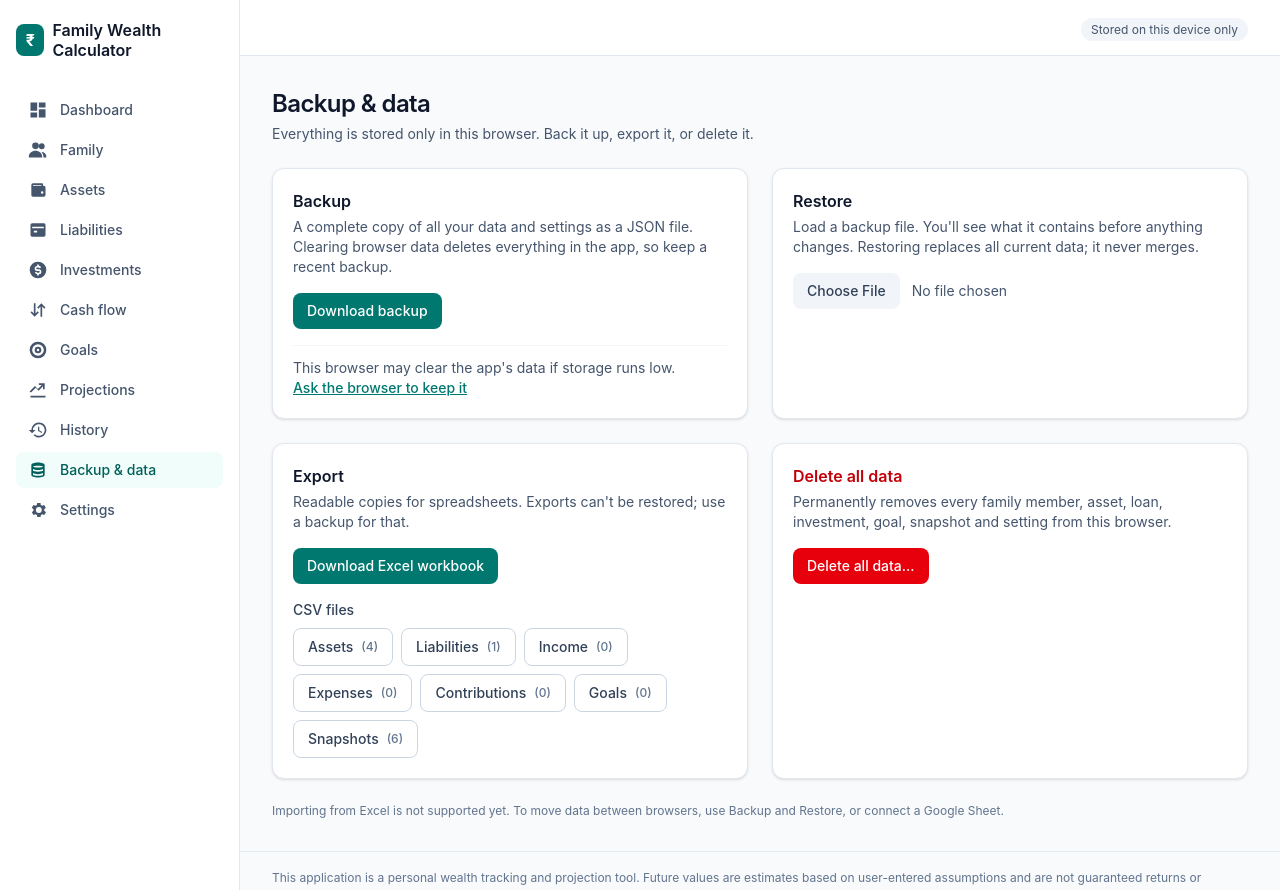
Test: Backup & data page (Phase 13) › deletes all data only after typing DELETE
The image size is (1280, 890).
Click the button "Delete all data…" at [861, 566], box [793, 548, 928, 584]
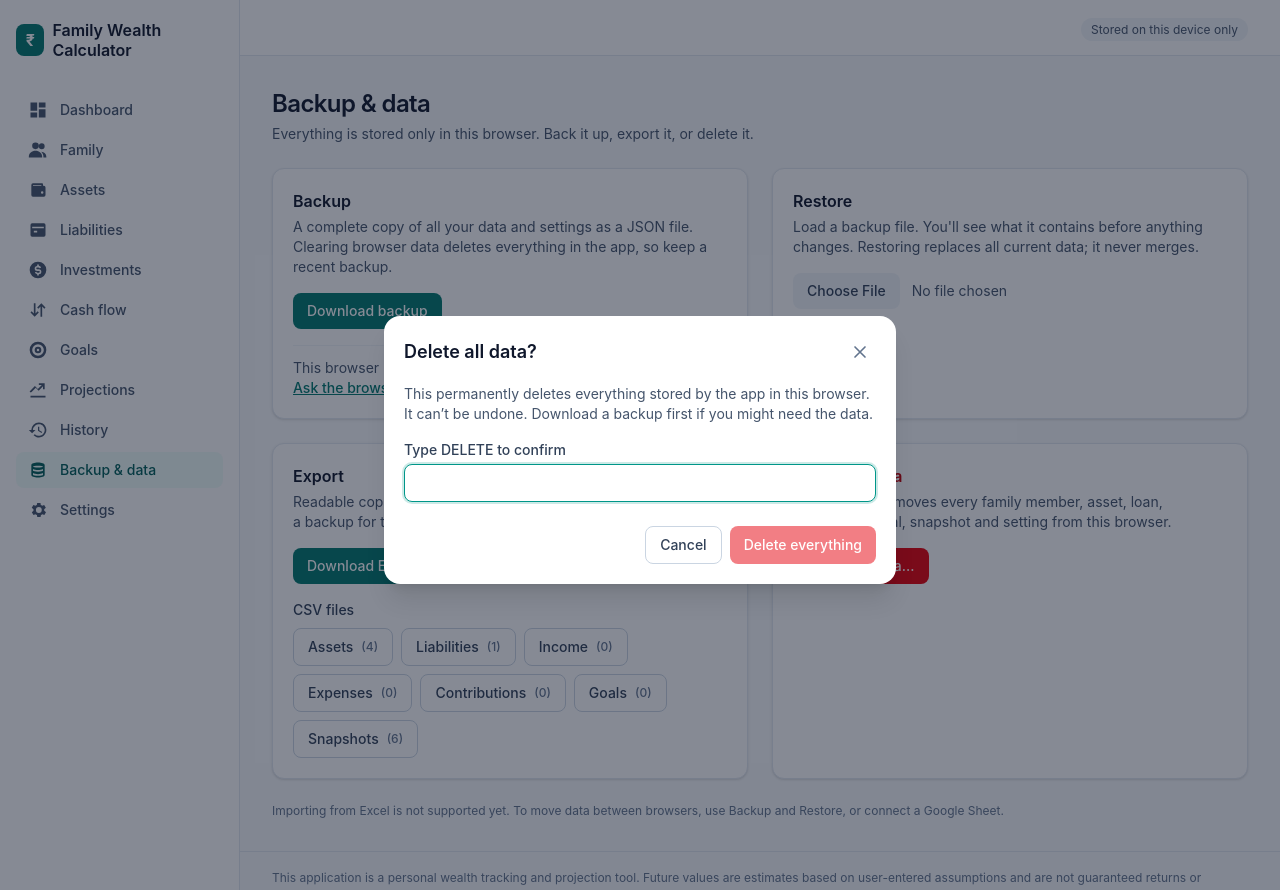
expect the button "Delete everything" is disabled: met, box [730, 526, 876, 564]
Type "delete" into the field labelled "Type DELETE to confirm" at [640, 483], box [404, 464, 876, 502]
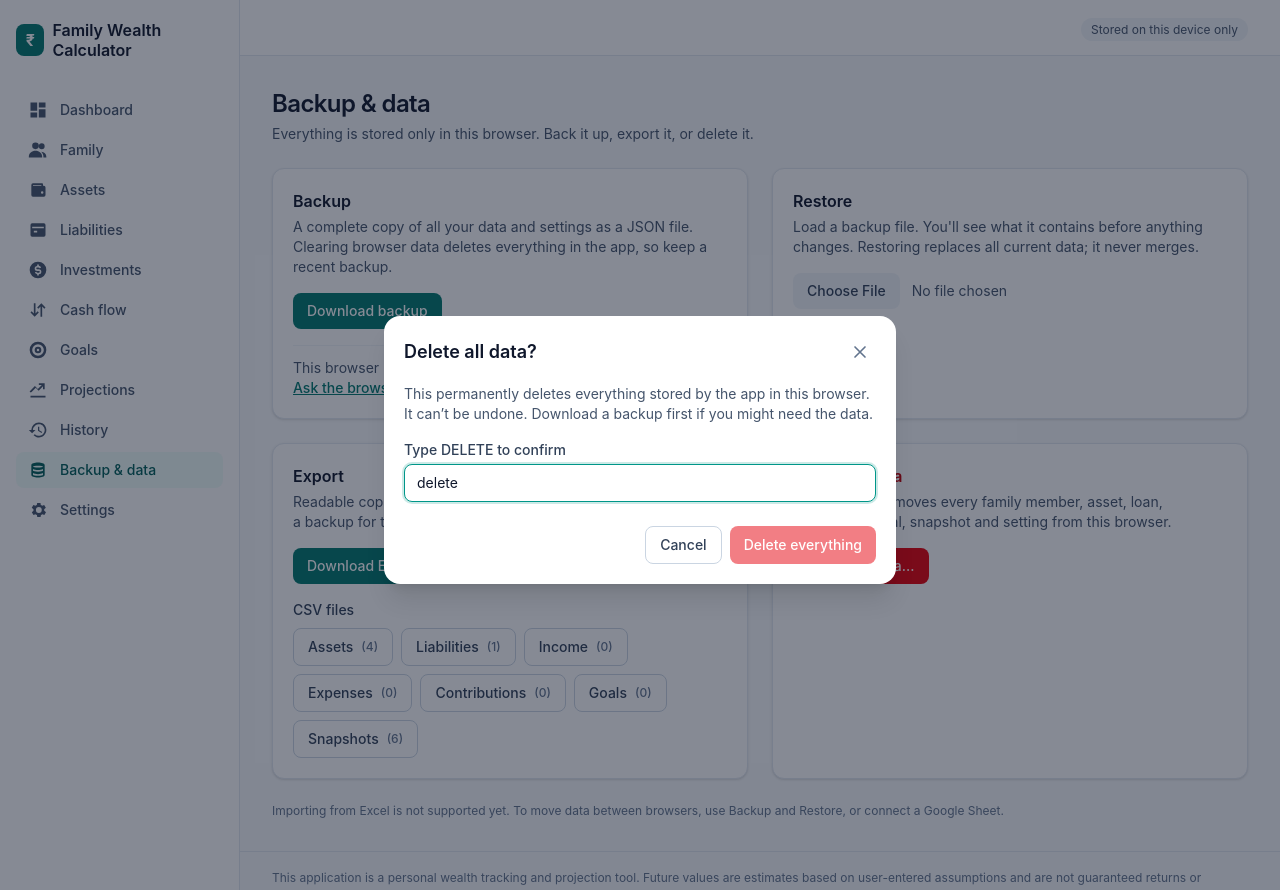
expect the button "Delete everything" is disabled: met, box [730, 526, 876, 564]
Replace the text in the field labelled "Type DELETE to confirm" with "DELETE" at [640, 483], box [404, 464, 876, 502]
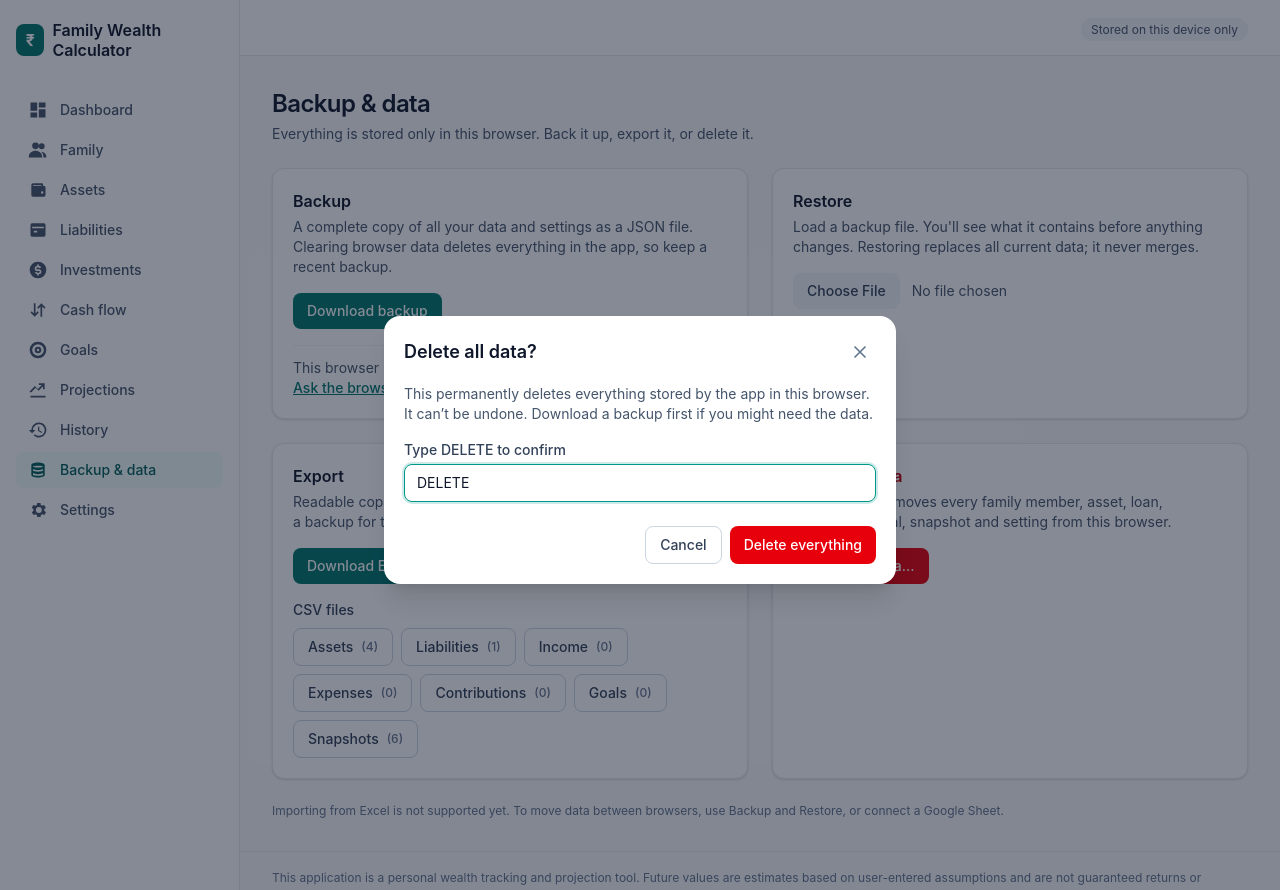
Click the button "Delete everything" at [803, 545], box [730, 526, 876, 564]
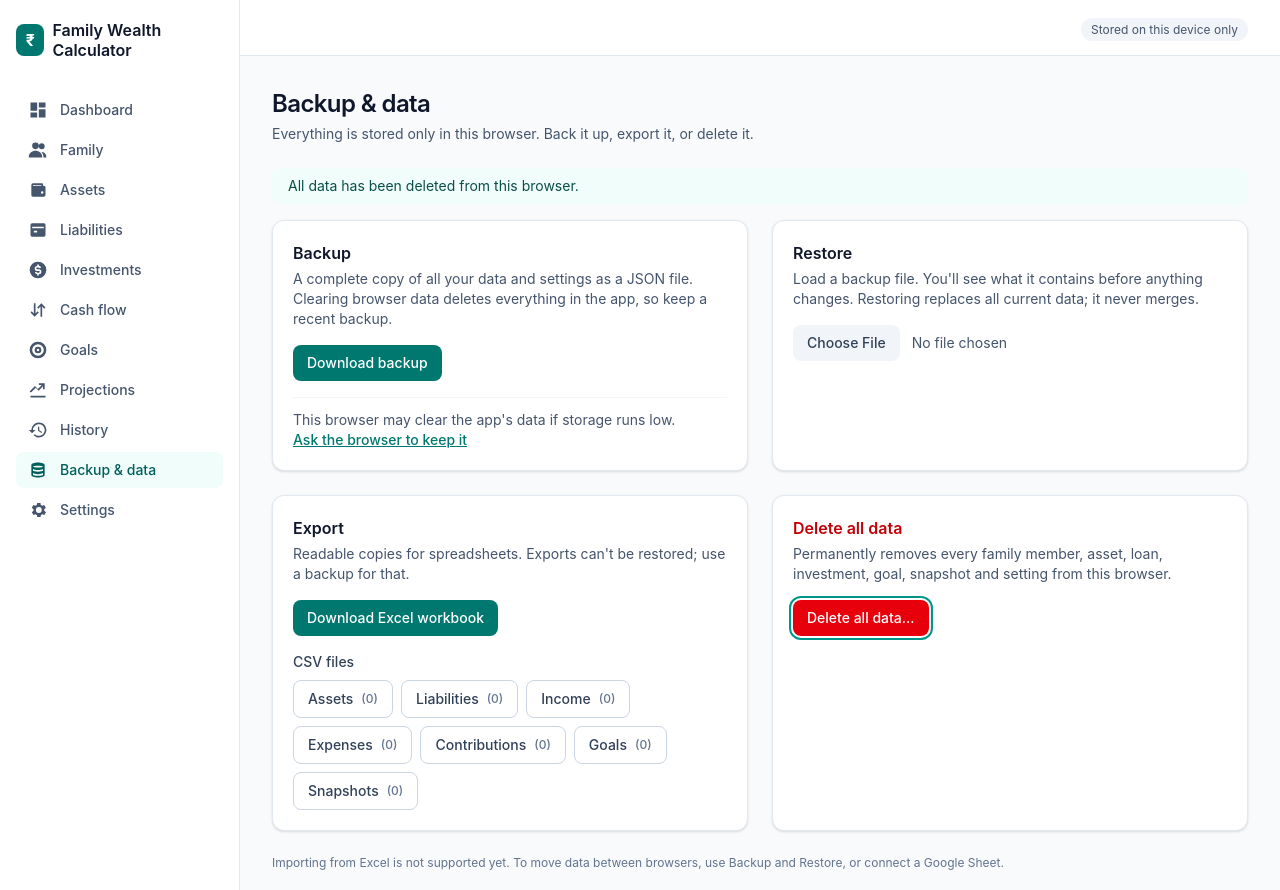
expect the text "All data has been deleted from this browser." is shown: met, box [272, 168, 1248, 204]
